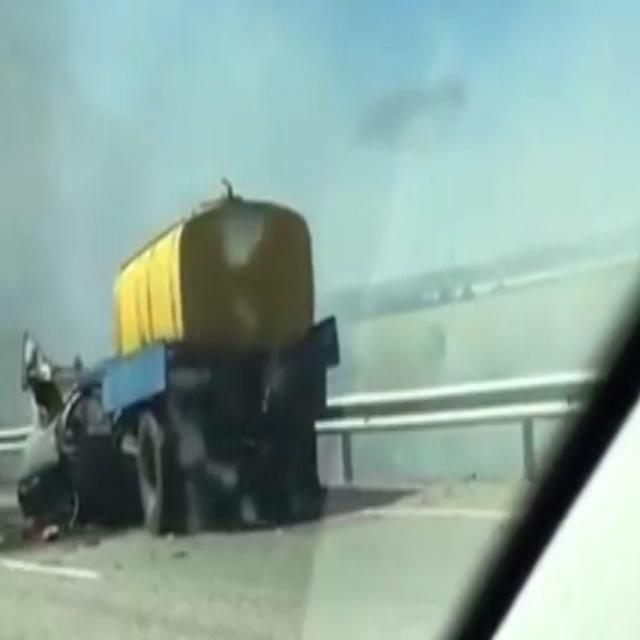accident: (20, 170, 338, 546)
